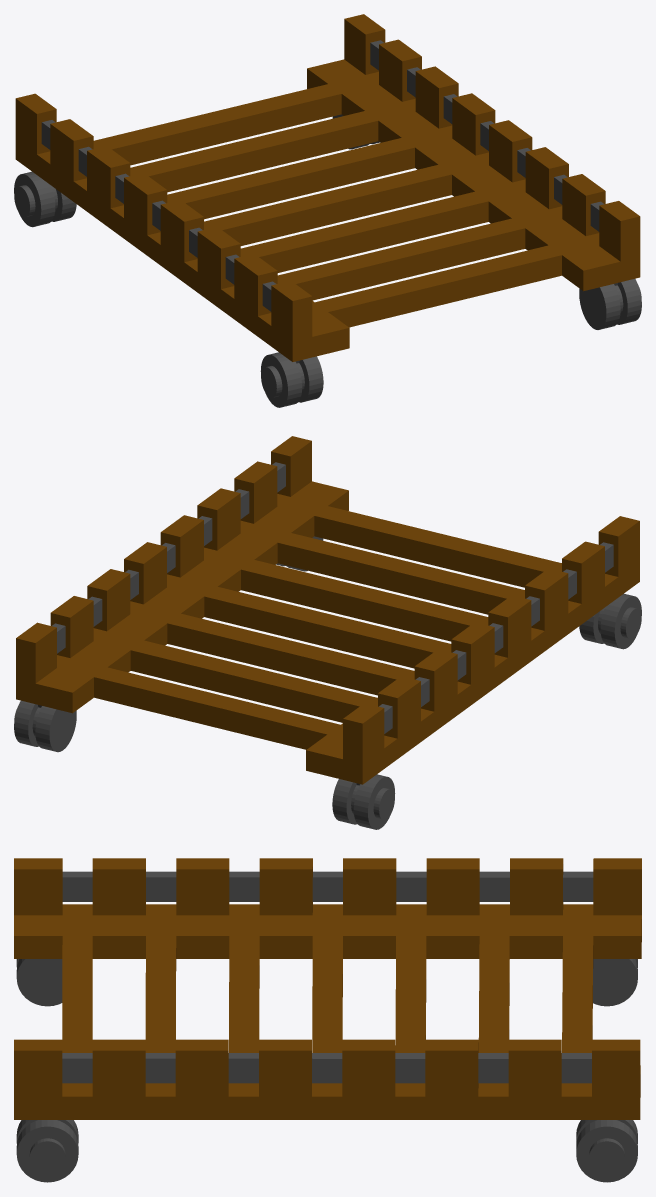
File: Cart.fbx
3 views of the same model, one above another, from view 1: azimuth 30°, elevation 25°; view 2: azimuth 150°, elevation 25°; view 3: azimuth 270°, elevation 25° (orthographic). The views are drawn at different scales.
Visible parts, largest first — view 1: Plane.001; view 2: Plane.001; view 3: Plane.001.
Boxes of the visible parts, left/top/right/bottom form: Plane.001: left=14, top=14, right=641, bottom=407; Plane.001: left=14, top=436, right=641, bottom=829; Plane.001: left=14, top=858, right=641, bottom=1182.
Bounding box in the file's own units: 3010 × 905 × 3959.
